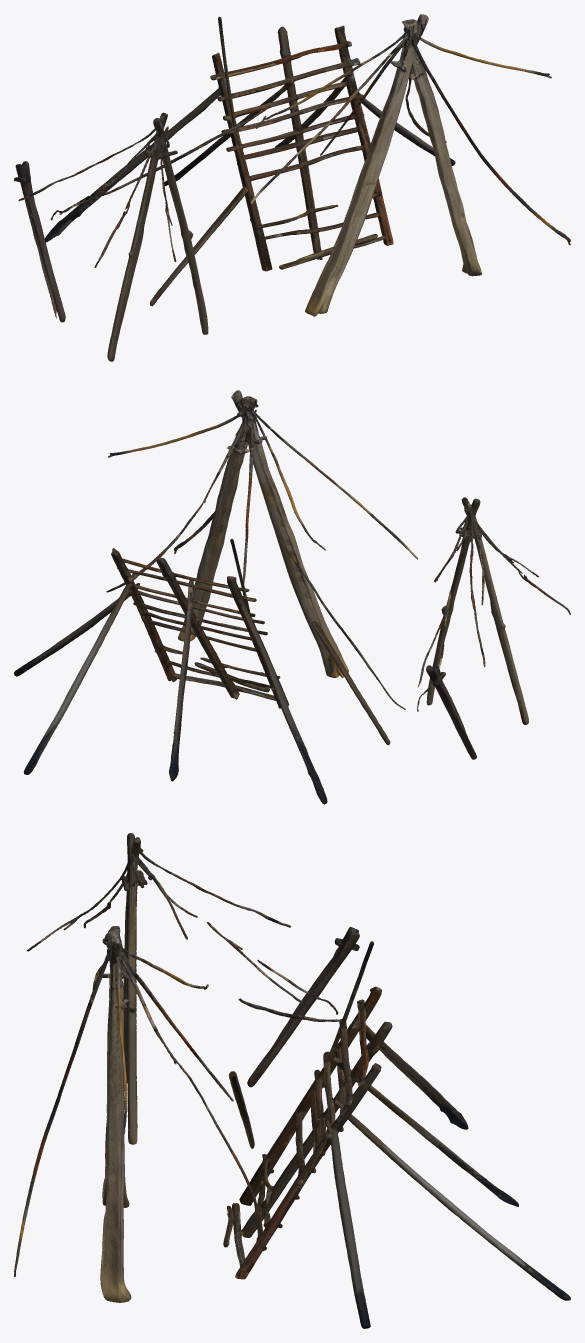
Rendered from tibau_eonxr.glb.
The picture shows the model from 3 angles, top to bottom: view 1: azimuth 30°, elevation 25°; view 2: azimuth 150°, elevation 25°; view 3: azimuth 270°, elevation 25°; orthographic projection. The views are drawn at different scales.
Visible parts, largest first — view 1: tripo_node_aa65fd86-faaf-4c18-8b35-ea92a27d585b; view 2: tripo_node_aa65fd86-faaf-4c18-8b35-ea92a27d585b; view 3: tripo_node_aa65fd86-faaf-4c18-8b35-ea92a27d585b.
Boxes of the visible parts, x1=… form: tripo_node_aa65fd86-faaf-4c18-8b35-ea92a27d585b: x1=14, y1=14, x2=570, y2=361; tripo_node_aa65fd86-faaf-4c18-8b35-ea92a27d585b: x1=14, y1=390, x2=570, y2=804; tripo_node_aa65fd86-faaf-4c18-8b35-ea92a27d585b: x1=14, y1=833, x2=570, y2=1328.
Bounding box in the file's own units: 1 × 0.5664 × 0.8271.
1 material, 1 textured.
